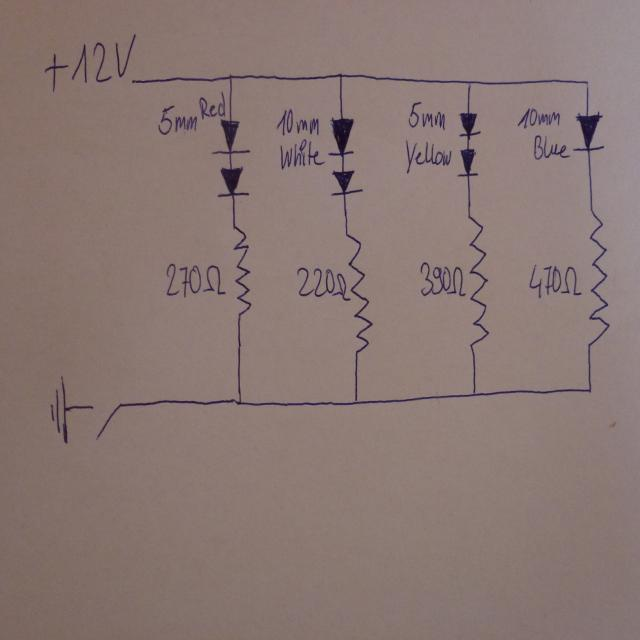diode: (208, 117, 252, 156), (571, 107, 606, 153), (216, 161, 252, 200), (326, 114, 356, 158), (329, 166, 362, 197), (457, 144, 480, 179), (456, 111, 481, 138)
ground: (46, 370, 73, 446)
junction: (230, 383, 248, 414), (348, 390, 364, 410), (466, 384, 481, 404), (582, 379, 596, 399), (336, 70, 345, 80), (226, 71, 234, 81), (582, 77, 590, 86), (465, 78, 473, 86)
resistor: (342, 231, 374, 354), (585, 206, 611, 347), (465, 212, 490, 348), (231, 218, 254, 322)
switch: (86, 400, 125, 441)
terminal: (127, 74, 142, 88)
text: (41, 30, 138, 94), (161, 261, 223, 300), (525, 262, 579, 302), (418, 260, 467, 304), (294, 264, 346, 302), (402, 137, 451, 170), (279, 136, 325, 169), (155, 102, 199, 136), (407, 99, 445, 135), (275, 108, 320, 138), (532, 133, 569, 161), (516, 107, 561, 129), (198, 88, 226, 121)
